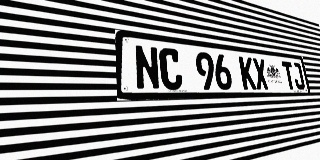6: (213, 53, 233, 90)
9: (195, 51, 217, 90)
C: (158, 47, 183, 90)
J: (291, 62, 305, 89)
K: (238, 56, 257, 90)
N: (134, 44, 161, 90)
T: (281, 61, 296, 90)
X: (252, 58, 269, 90)
